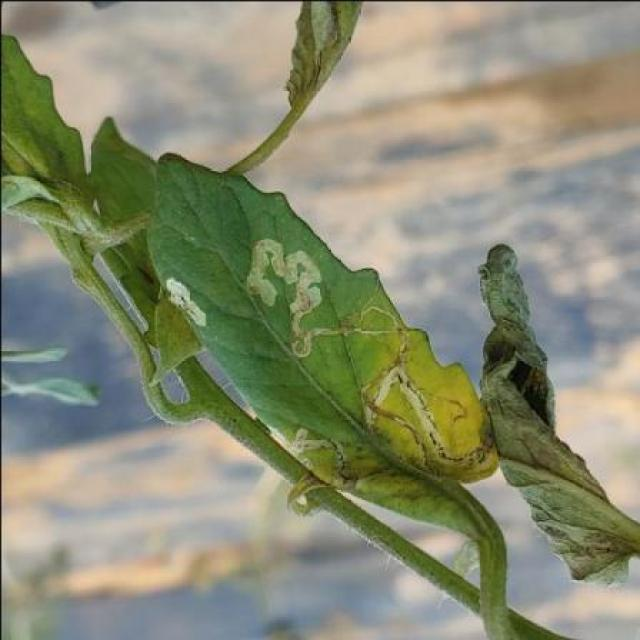Leaf Miner: (145, 152, 500, 537)
